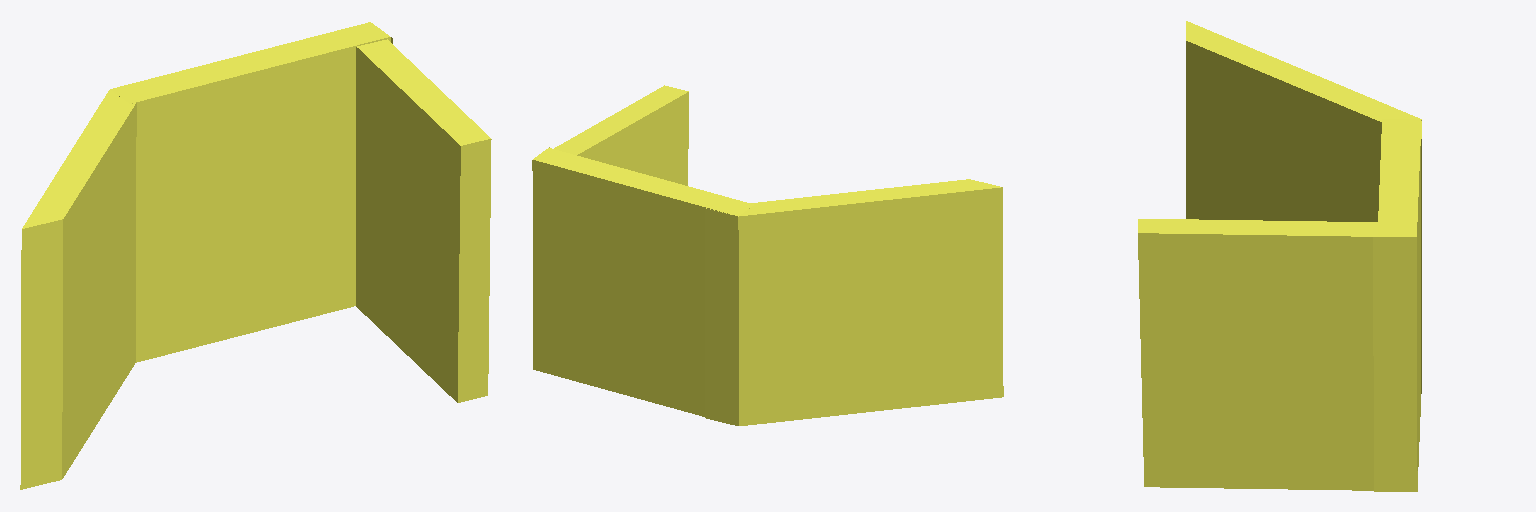
robot.urdf — env.urdf:
<?xml version="0.0" ?>
<robot name="env.urdf">
  <link name="baseLink">
    <contact>
      <lateral_friction value="1.0"/>
      <rolling_friction value="0.0"/>
      <contact_cfm value="0.0"/>
      <contact_erp value="1.0"/>
    </contact>
    <inertial>
      <origin rpy="0 0 0" xyz="0.0 0.02 0.0"/>
       <mass value="0"/>
       <inertia ixx="1" ixy="0" ixz="0" iyy="1" iyz="0" izz="1"/>
    </inertial>
    <visual>
      <origin rpy="0 0 0" xyz="0 0 0"/>
      <geometry>
        <mesh filename="wall4.obj" scale="1 1 1"/>
      </geometry>
       <material name="yellow">
        <color rgba="1 1 0.4 1"/>
      </material>
    </visual>
    <collision>
      <origin rpy="0 0 0" xyz="0 0 0"/>
      <geometry>
	 	<mesh filename="wall4.obj" scale="1 1 1"/>
      </geometry>
    </collision>
  </link>
</robot>

--- What the picture shows (computed from the rendered views, not written in the file) ---
3 views of the same robot in one strip: view 1: azimuth 30°, elevation 25°; view 2: azimuth 150°, elevation 25°; view 3: azimuth 270°, elevation 25° (orthographic).
Model env.urdf with 1 links and 0 joints (none), rooted at baseLink, posed every joint at zero.
Links seen in each view (by area): view 1: baseLink; view 2: baseLink; view 3: baseLink.
Boxes of the visible links, x1,y1,x2,y2 form: baseLink: (20,22,491,489); baseLink: (532,85,1003,425); baseLink: (1138,21,1421,491).
Bounding box of the posed robot: 1.7 × 0.9164 × 0.9316 m (x, y, z).
1 mesh visuals loaded from 1 distinct referenced files (1 OBJ).